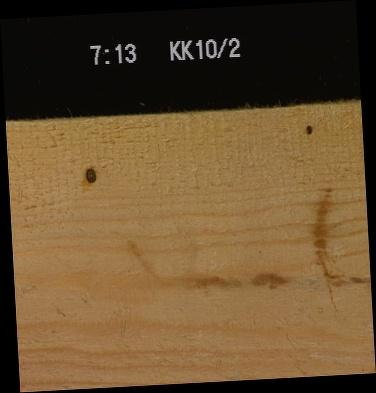dry_knot: (84, 166, 96, 183), (303, 123, 312, 135)
